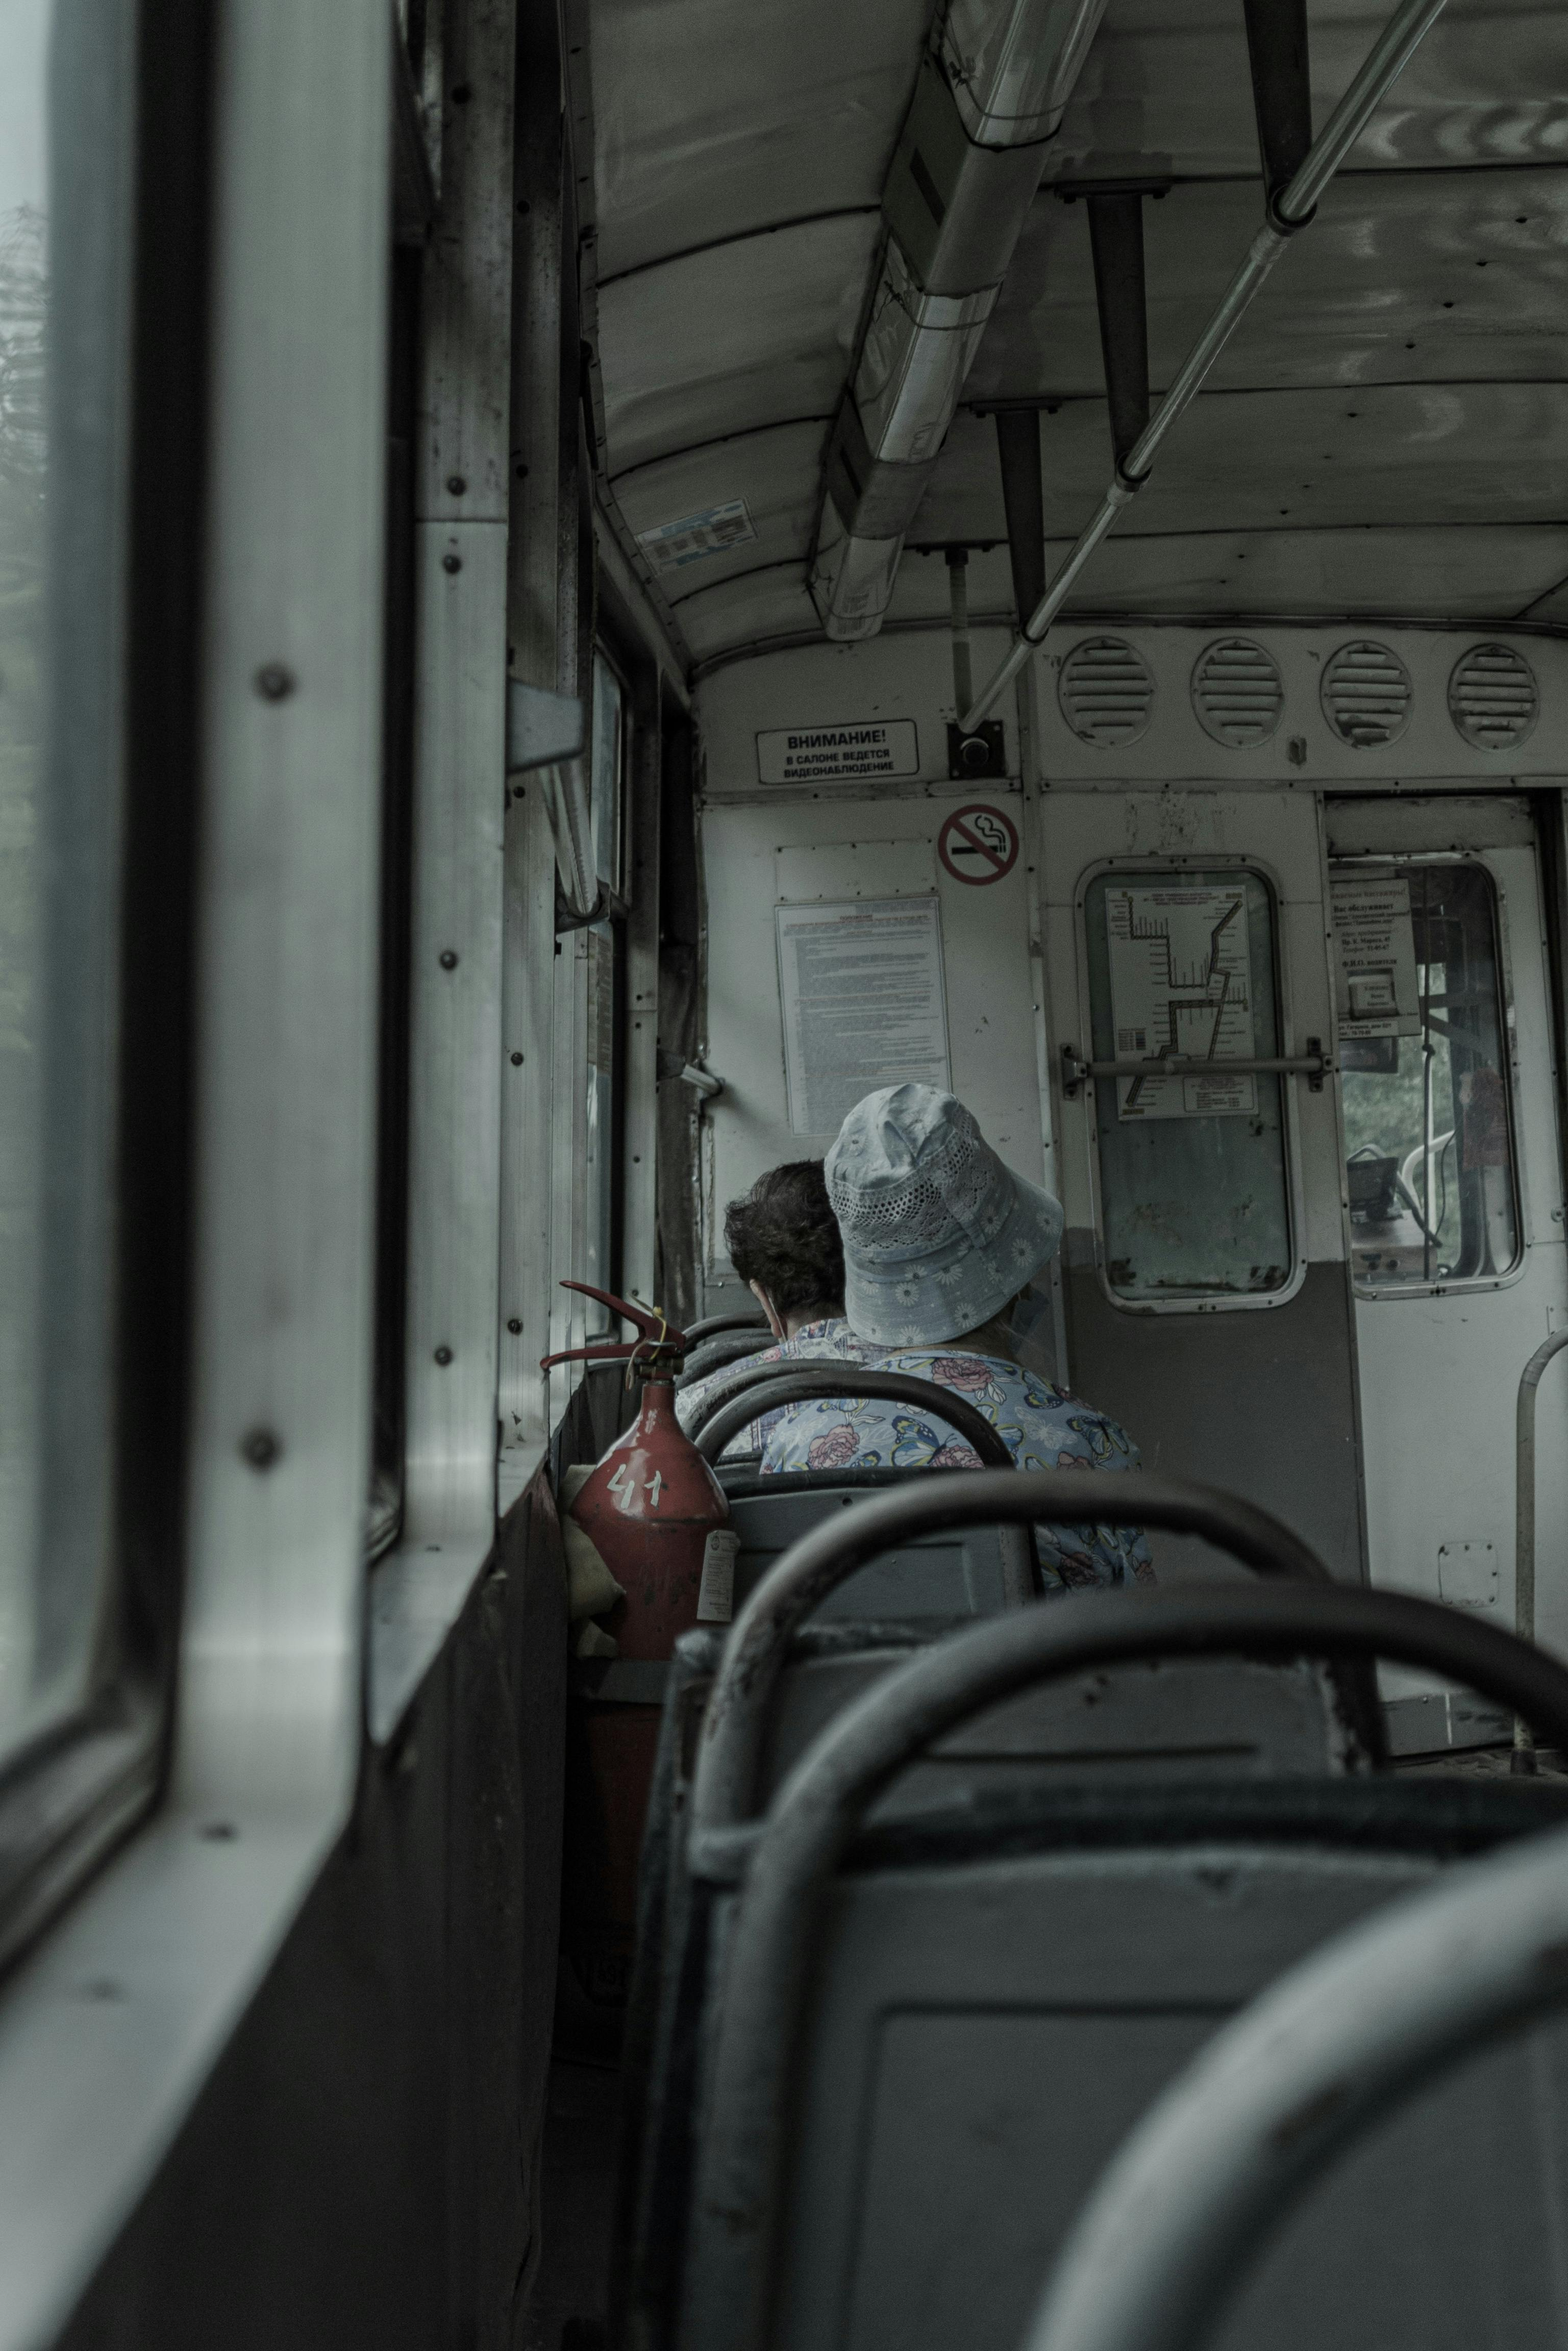extintor: (537, 1266, 753, 1970)
